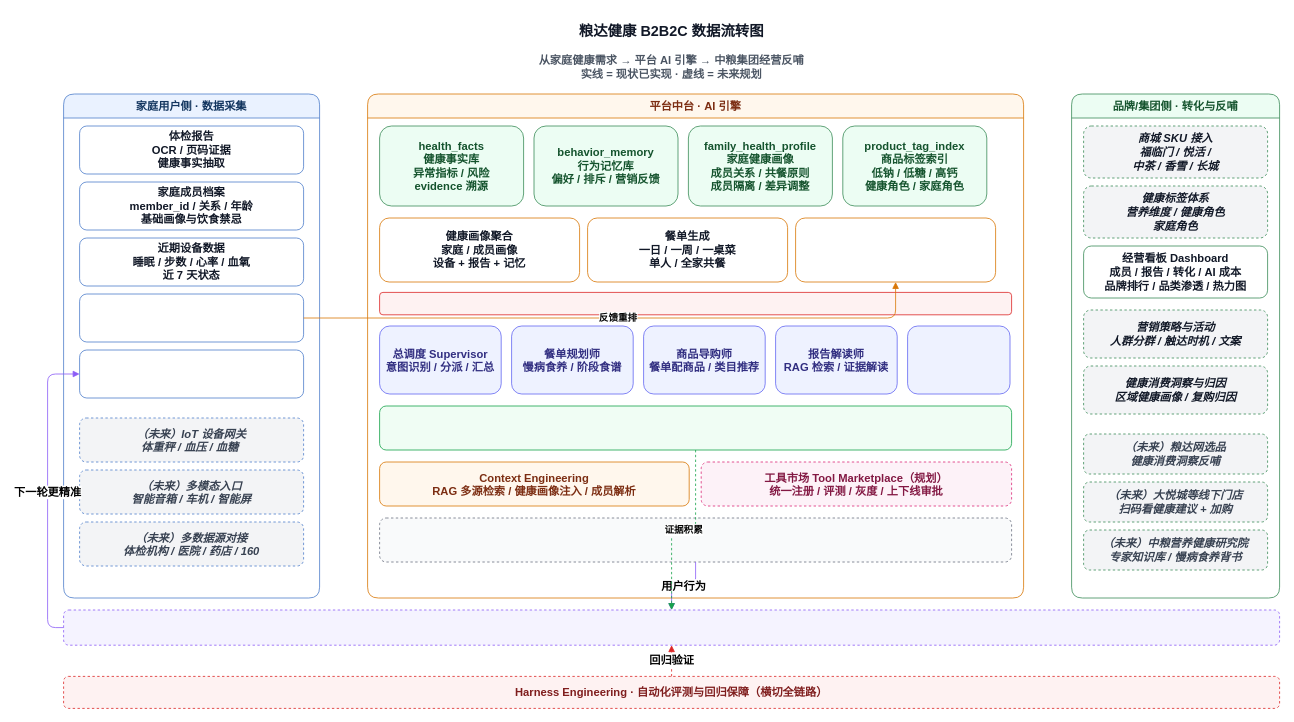
The diagram is 1294 pixels wide and 722 high, and some of its shapes have lost their labels. The shapes that lost their labels are listed below. From the top down, each one's centre as x and y in pixels, then its label:
pixel 895 249: 商品推荐 规则打分 + 反馈重排 过敏原 / 禁忌拦截
pixel 191 317: 商城行为 加购 / 商品反馈（喜欢 / 不喜欢 / 太贵）
pixel 695 303: ⚠ 健康红线横切：过敏原 > 健康禁忌 > 偏好 > 营销转化（任何推荐都不能突破健康底线）
pixel 191 373: 对话日志 Agent 多轮对话 / 会话管理
pixel 958 359: 集团运营 Agent 经营分析 / 数据洞察
pixel 695 427: 证据链 Evidence Chain 报告溯源 / 商品推荐依据 / 安全拦截记录 → 挂载到 respond 卡片
pixel 695 539: 应用与触点层：主 App / 微信小程序 / 公众号 / 企业微信 / 智能音箱 / 车机 / 智能屏 / H5 嵌入集团 App / 线下门店屏
pixel 671 627: Loop Engineering · 反馈闭环写回（用户越用越聪明，集团越卖越精准）
